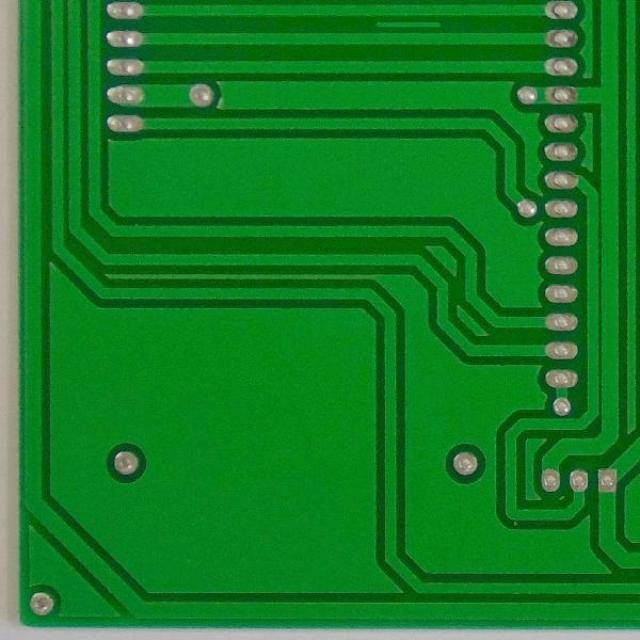spurious_copper: (370, 17, 447, 36)
